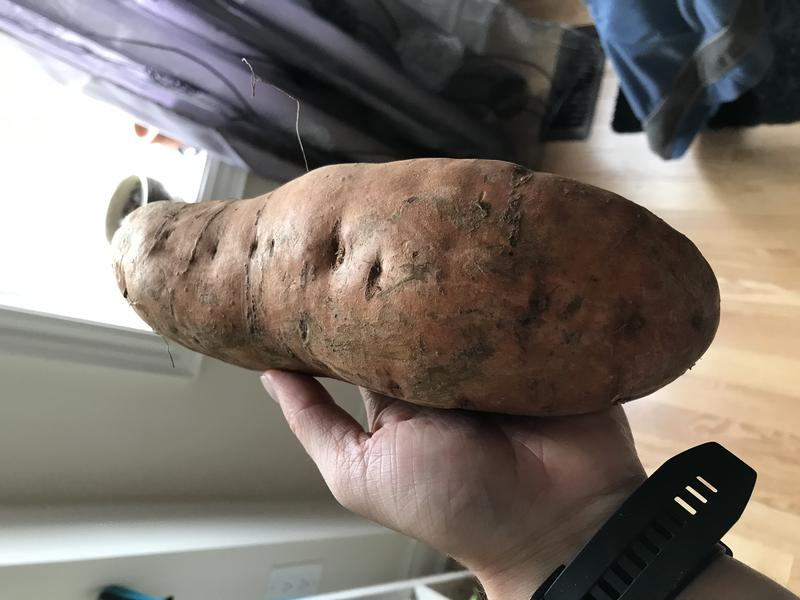sweet_potato: (99, 144, 739, 427)
